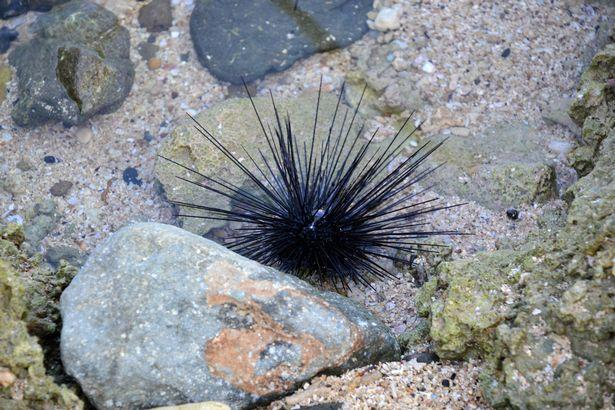urchin: (161, 75, 472, 290)
